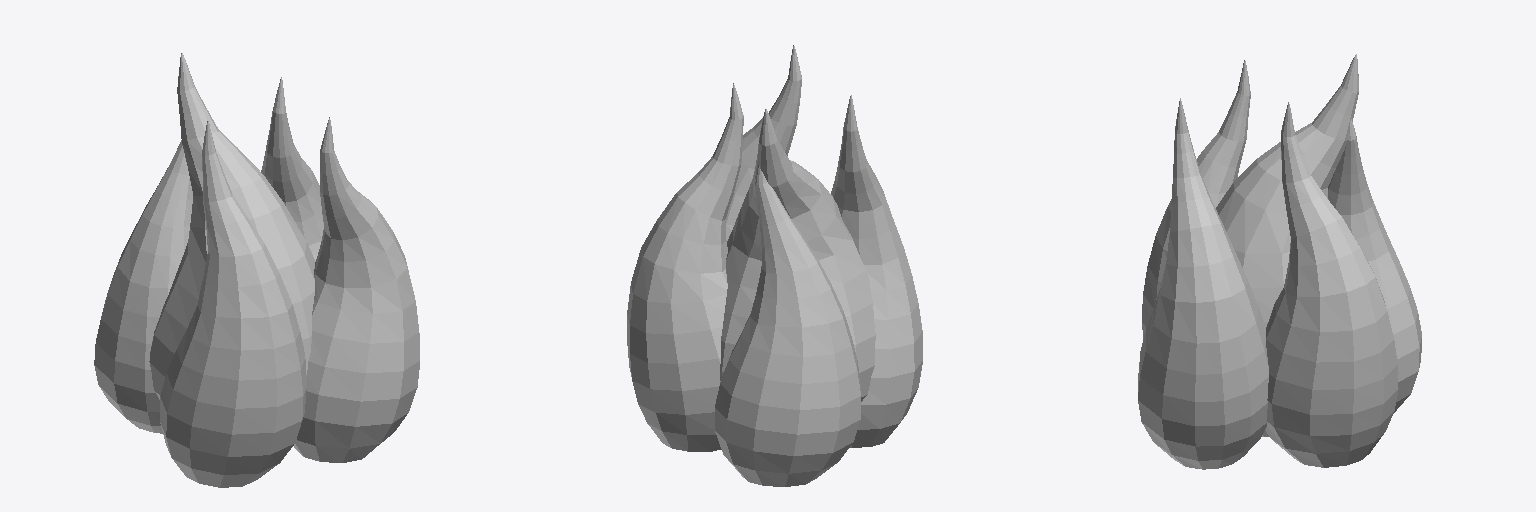
File: fire_000058.obj
3 renders of one model, left to right at view 1: azimuth 30°, elevation 25°; view 2: azimuth 150°, elevation 25°; view 3: azimuth 270°, elevation 25°, orthographic.
Visible parts, largest first — view 1: flame_NurbsPath.015; view 2: flame_NurbsPath.015; view 3: flame_NurbsPath.015.
Boxes of the visible parts, box(x1,y1,x2,y2) form: flame_NurbsPath.015: box(94, 53, 419, 487); flame_NurbsPath.015: box(627, 45, 922, 486); flame_NurbsPath.015: box(1138, 54, 1421, 469).
Size of the model in its own units: 0.764 by 1.15 by 0.7994.